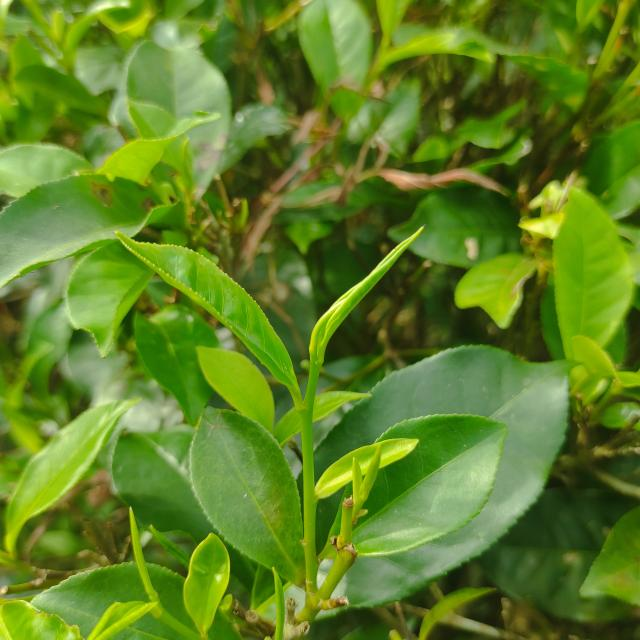unopened_leaf: (302, 219, 431, 373), (122, 495, 161, 603), (148, 523, 195, 569), (266, 560, 292, 640), (357, 444, 386, 514), (342, 458, 367, 514)
